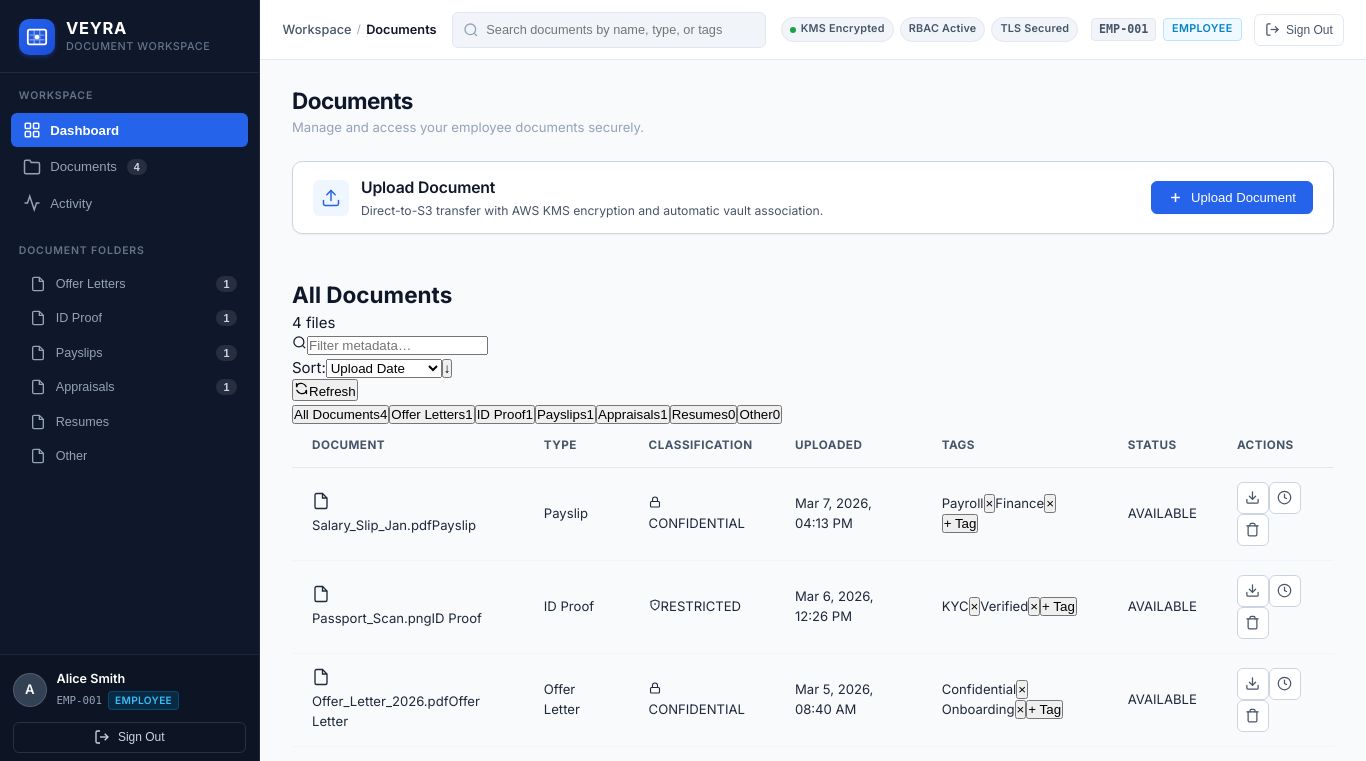
VEYRA Document Browser & Specification Features › renders S3 delete markers with distinctive status in VersionHistoryDrawer
The image size is (1366, 761).
expect the text "Offer_Letter_2026.pdf" is shown: met, box x1=312 y1=693 x2=448 y2=709
Click the button named "view version history for Offer_Letter_2026.pdf": (1285, 684) x1=1269 y1=668 x2=1301 y2=700
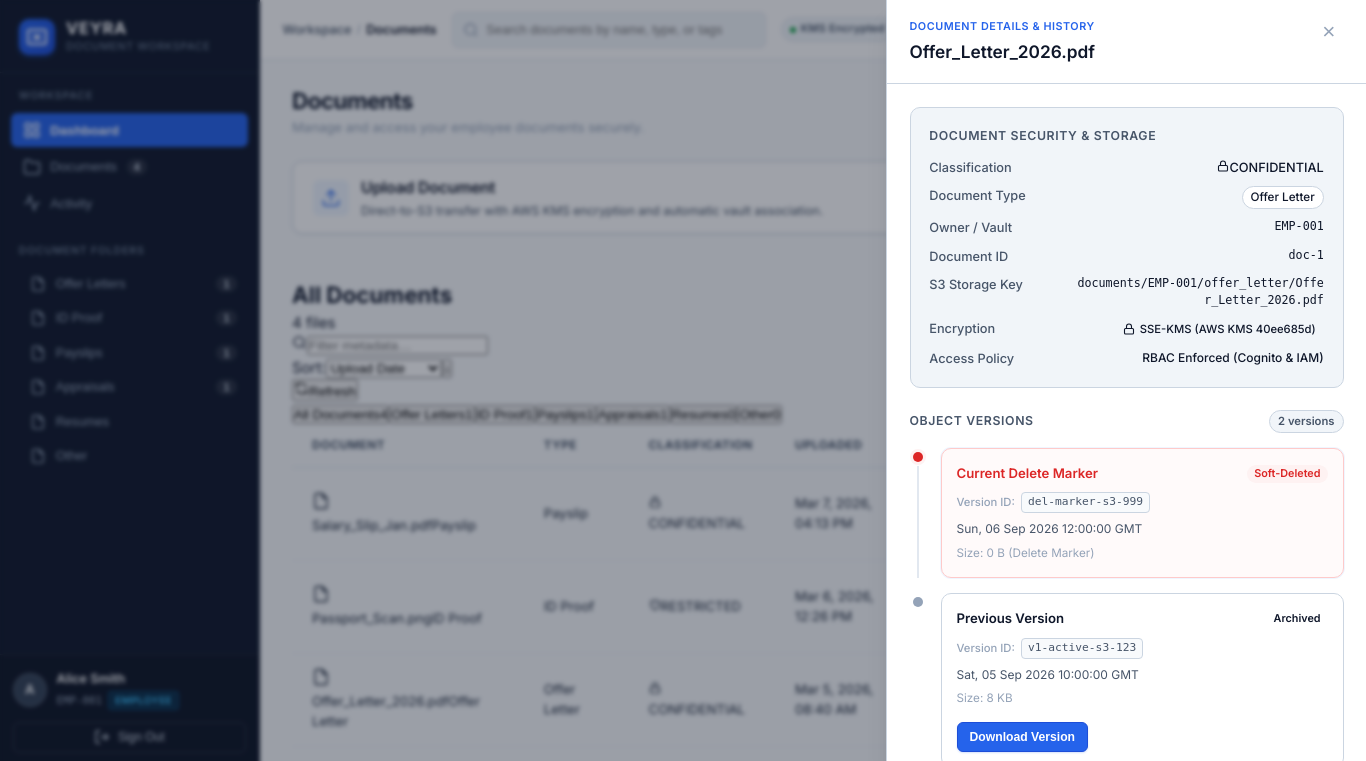
expect the text "del-marker-s3-999" is shown: met, box x1=1021 y1=492 x2=1150 y2=513
expect the text "Current Delete Marker" is shown: met, box x1=956 y1=464 x2=1098 y2=484
expect the text "Soft-Deleted" is shown: met, box x1=1247 y1=465 x2=1328 y2=483
